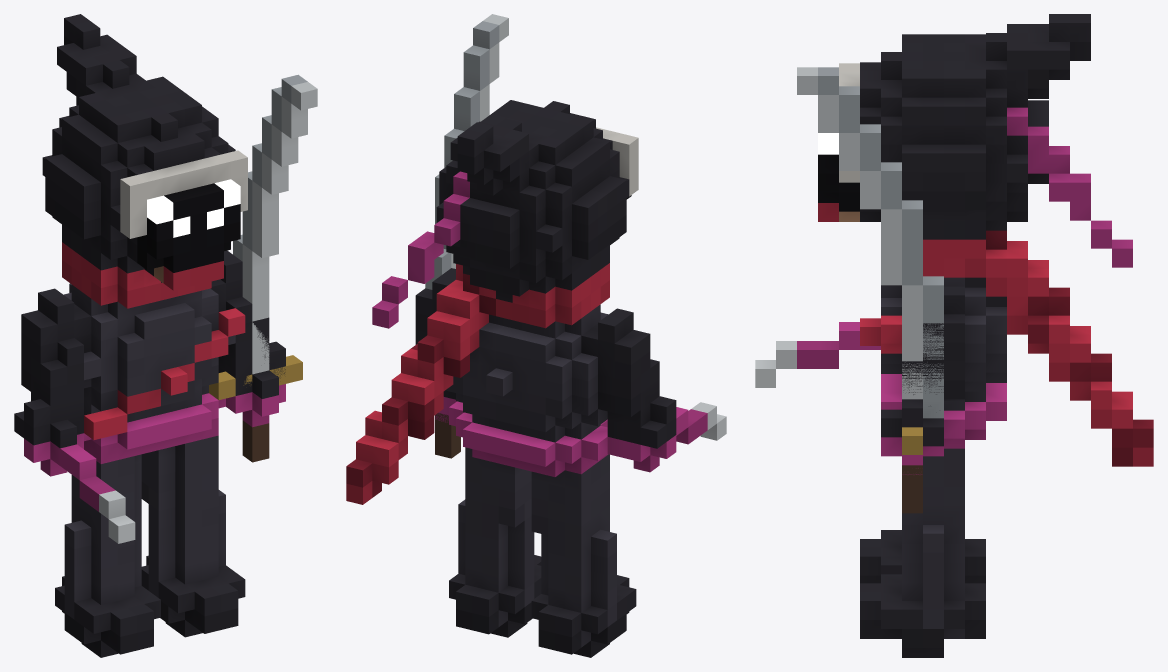
The model's file is u_lame__tidiane.glb.
3 views of the same model, side by side, from view 1: azimuth 30°, elevation 25°; view 2: azimuth 150°, elevation 25°; view 3: azimuth 270°, elevation 25° (orthographic). The views are drawn at different scales.
Visible parts, largest first — view 1: lame_body, lame_weapon, lame_glow; view 2: lame_body, lame_weapon; view 3: lame_body, lame_weapon.
Part boxes in pixels (left/top/right/bottom): lame_body: left=14, top=14, right=285, bottom=657; lame_weapon: left=209, top=74, right=317, bottom=462; lame_glow: left=147, top=179, right=240, bottom=237; lame_body: left=346, top=100, right=726, bottom=657; lame_weapon: left=425, top=14, right=508, bottom=458; lame_body: left=755, top=14, right=1153, bottom=657; lame_weapon: left=797, top=67, right=943, bottom=513.
Size of the model in its own units: 0.8 by 1.6 by 0.95.
